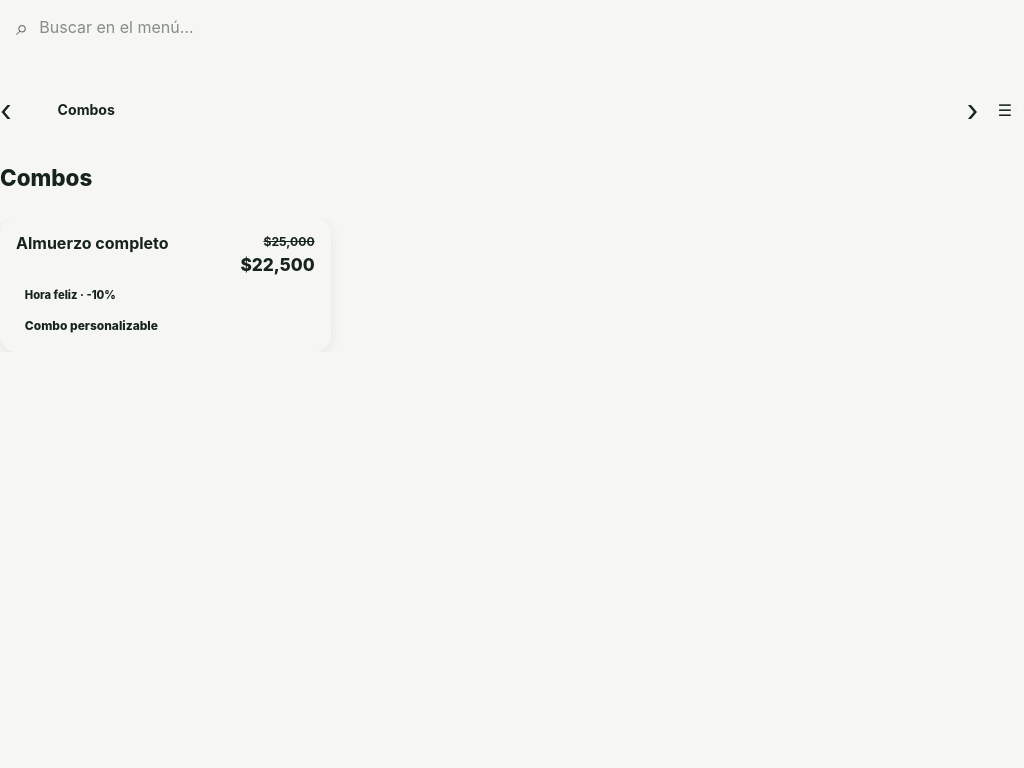
Test: PublicMenuComponent combo details › explains every combo group and identifies price adjustments
Click the button with aria-label "Ver Almuerzo completo": (92, 243) [0,218,331,352]
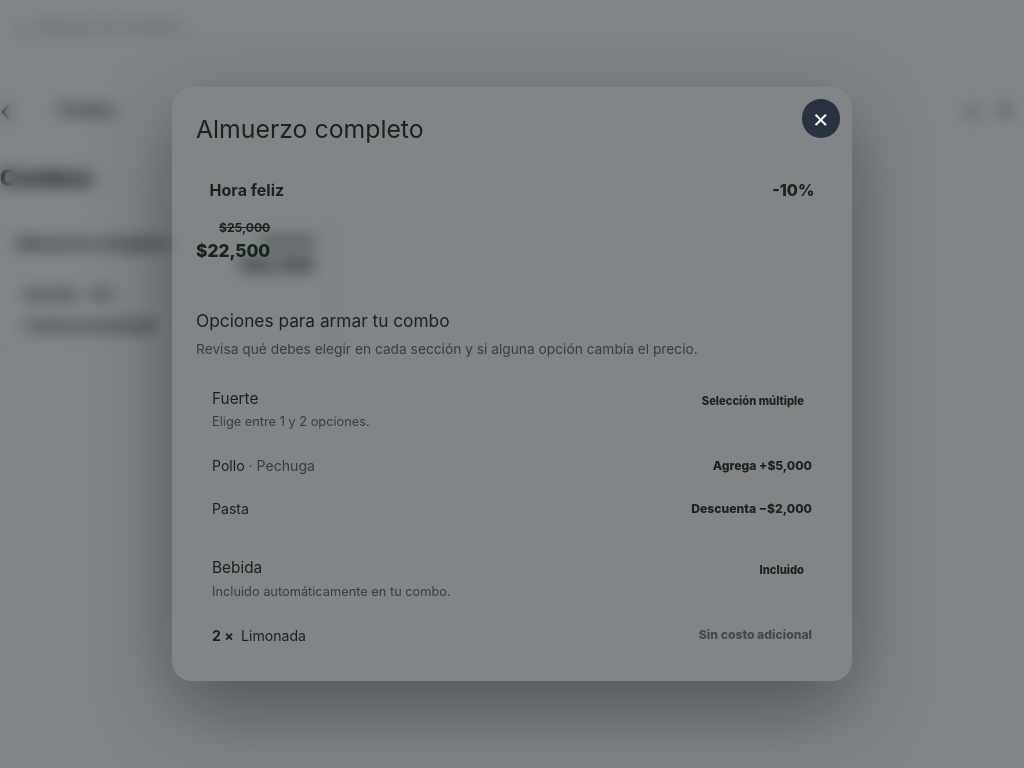
Check: the dialog shows "Fuerte", box [212,389,258,408]
Check: the dialog shows "Selección múltiple", box [702,394,804,408]
Check: the dialog shows "Elige entre 1 y 2 opciones.", box [212,414,370,429]
